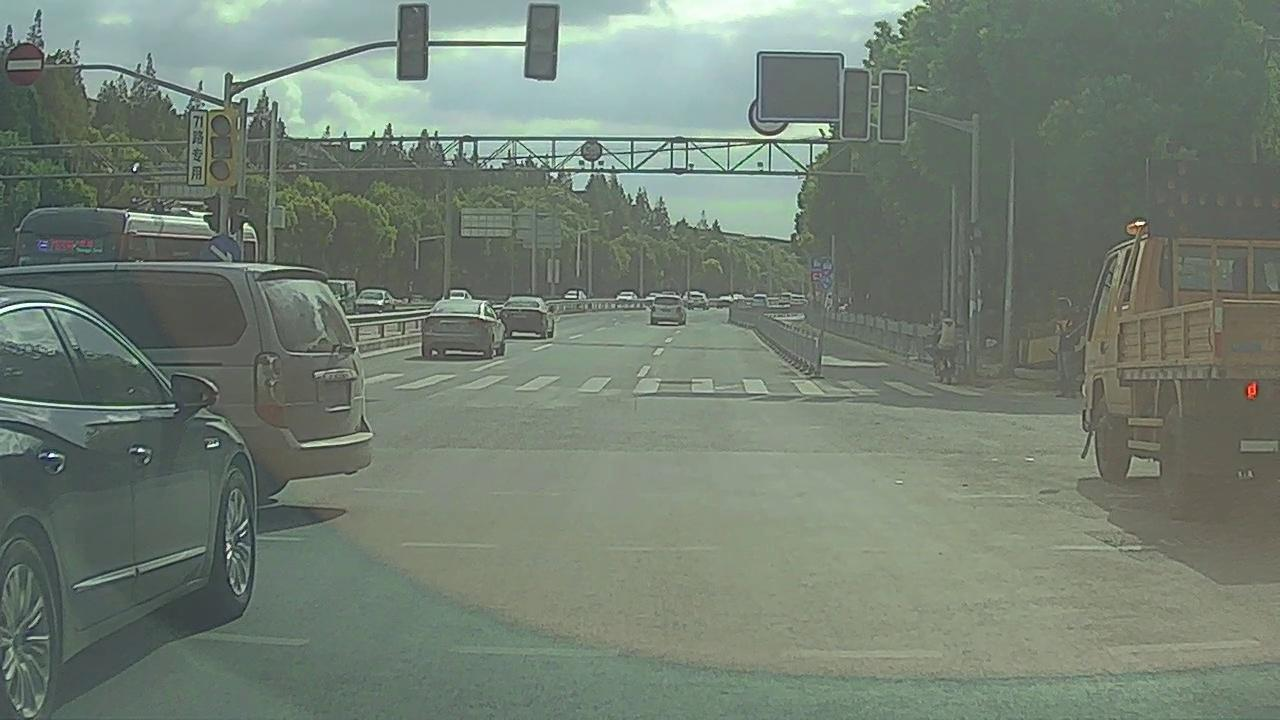traffic_light: (399, 6, 426, 81), (529, 7, 556, 80), (881, 69, 907, 142), (844, 70, 867, 136)
